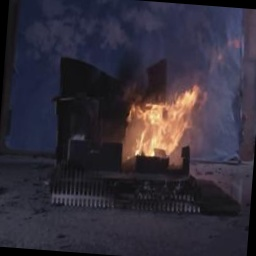fire: (114, 71, 209, 168)
